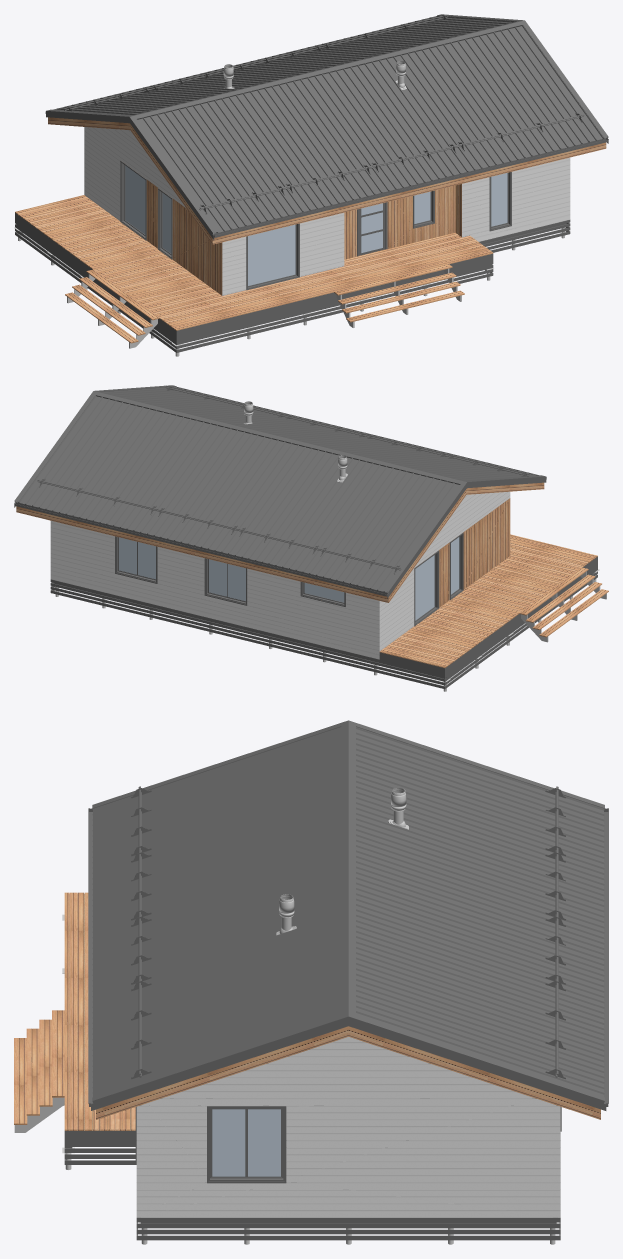
3 renders of one model, top to bottom at view 1: azimuth 30°, elevation 25°; view 2: azimuth 150°, elevation 25°; view 3: azimuth 270°, elevation 25°, orthographic. The views are drawn at different scales.
Parts seen in each view (by area): view 1: object 10, object 26, object 24, object 25, object 30, object 17, [MEP]-Gray plastic; view 2: object 10, object 24, object 26, object 30, object 25, object 17, [MEP]-Gray plastic; view 3: object 10, object 24, object 26, object 30, [MEP]-Gray plastic, object 28.
Boxes of the visible parts, left/top/right/bottom form: object 10: left=15, top=14, right=608, bottom=352; object 26: left=15, top=117, right=606, bottom=343; object 24: left=84, top=127, right=570, bottom=295; object 25: left=146, top=179, right=461, bottom=295; object 30: left=125, top=165, right=507, bottom=285; object 17: left=67, top=268, right=461, bottom=348; [MEP]-Gray plastic: left=223, top=61, right=406, bottom=89; object 10: left=14, top=385, right=597, bottom=688; object 24: left=50, top=491, right=510, bottom=659; object 26: left=16, top=482, right=608, bottom=668; object 30: left=119, top=537, right=459, bottom=620; object 25: left=439, top=498, right=510, bottom=607; object 17: left=521, top=571, right=606, bottom=642; [MEP]-Gray plastic: left=243, top=401, right=347, bottom=482; object 10: left=64, top=720, right=608, bottom=1240; object 24: left=136, top=1036, right=560, bottom=1217; object 26: left=14, top=892, right=600, bottom=1130; object 30: left=212, top=1109, right=280, bottom=1176; [MEP]-Gray plastic: left=276, top=788, right=408, bottom=935; object 28: left=69, top=893, right=130, bottom=1130.
Size of the model in its own units: 16.41 by 5.75 by 11.74.
31 materials, 15 textured.
